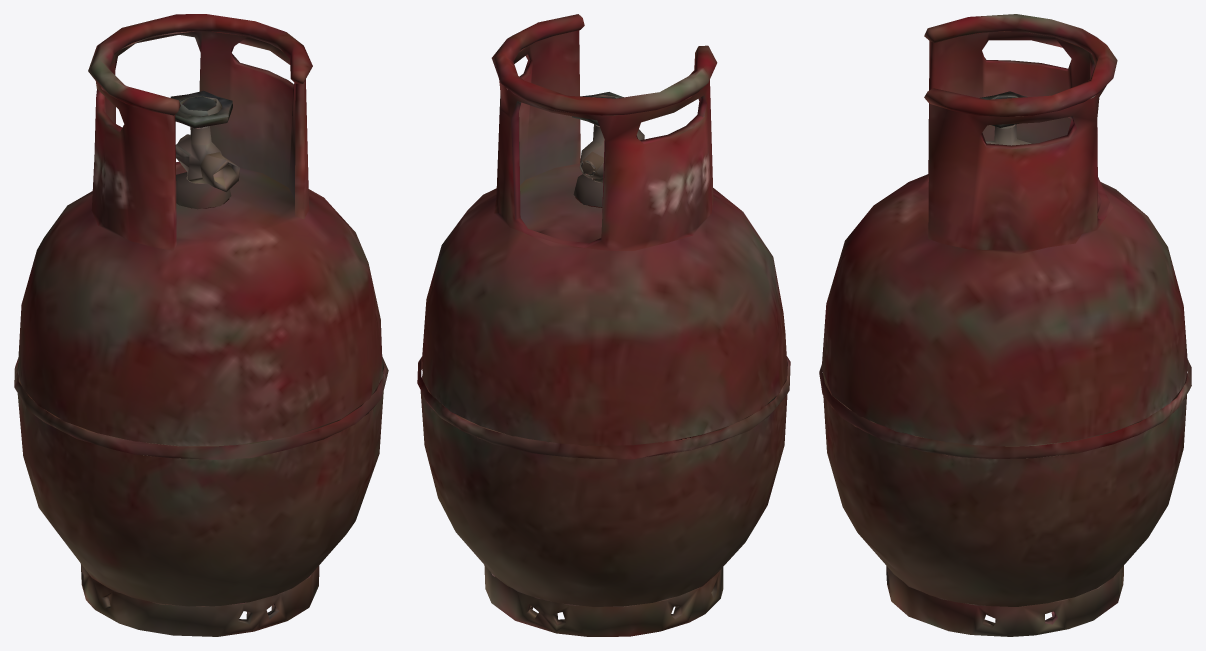
Rendered from small_lpg_tank.glb.
3 renders of one model, left to right at view 1: azimuth 30°, elevation 25°; view 2: azimuth 150°, elevation 25°; view 3: azimuth 270°, elevation 25°, orthographic.
Visible parts, largest first — view 1: small_lpg_tank; view 2: small_lpg_tank; view 3: small_lpg_tank.
Boxes of the visible parts, x1=… form: small_lpg_tank: x1=14, y1=14, x2=388, y2=636; small_lpg_tank: x1=417, y1=14, x2=790, y2=636; small_lpg_tank: x1=819, y1=14, x2=1191, y2=636.
Size of the model in its own units: 0.4101 by 0.6425 by 0.4097.
1 material, 1 textured.
